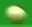white: (0, 0, 32, 27)
